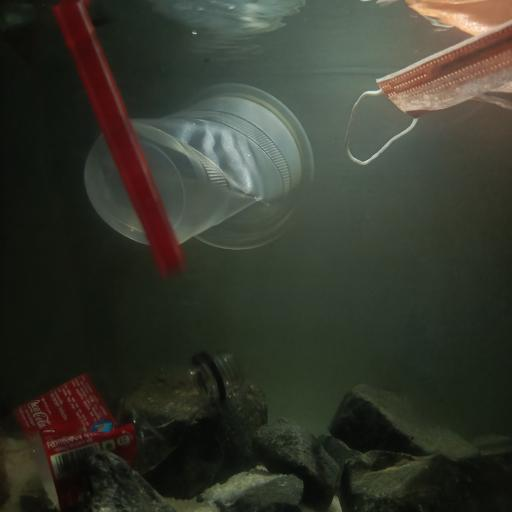mask: (342, 21, 512, 170)
plastic_bottle: (2, 348, 238, 512)
plastic_cup: (82, 84, 319, 257)
plastic_straw: (56, 1, 187, 278)
